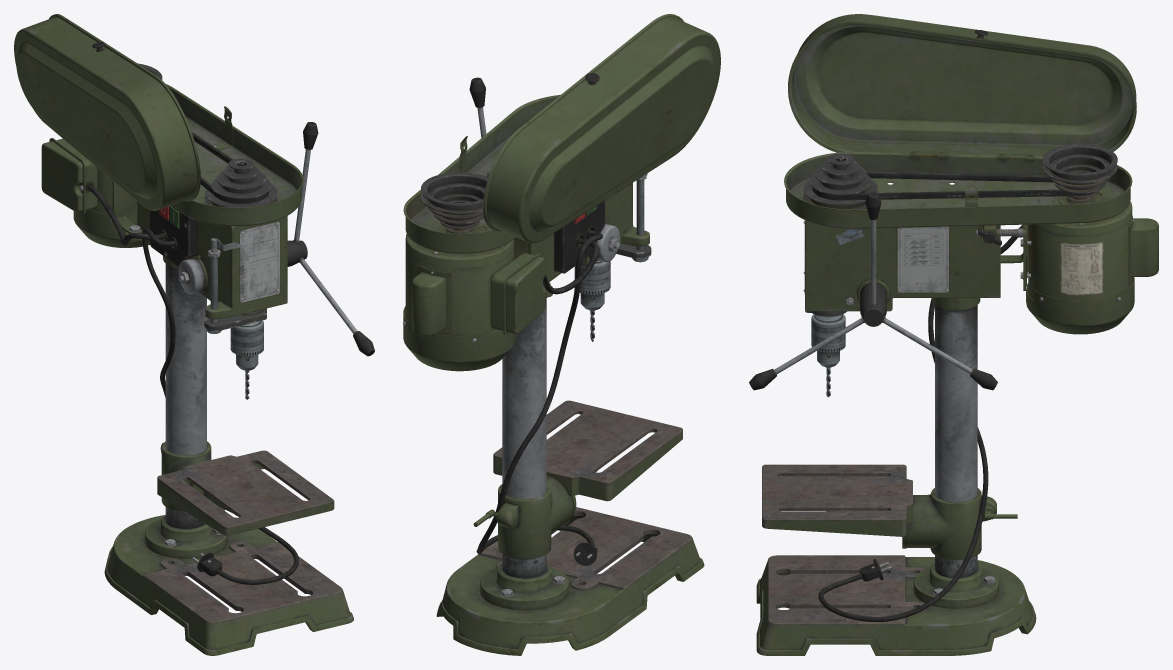
File: drill-press.glb
3 views of the same model, side by side, from view 1: azimuth 30°, elevation 25°; view 2: azimuth 150°, elevation 25°; view 3: azimuth 270°, elevation 25° (orthographic). The views are drawn at different scales.
Parts seen in each view (by area): view 1: drill_press_01, drill_press_01_lid, drill_press_01_plate, drill_press_01_gear_b, drill_press_01_plug, drill_press_01_handle, drill_press_01_limiter, drill_press_01_bit, drill_press_01_belt; view 2: drill_press_01, drill_press_01_lid, drill_press_01_plate, drill_press_01_gear_a, drill_press_01_plug, drill_press_01_bit, drill_press_01_limiter, drill_press_01_handle; view 3: drill_press_01, drill_press_01_lid, drill_press_01_plate, drill_press_01_handle, drill_press_01_gear_a, drill_press_01_belt, drill_press_01_plug, drill_press_01_gear_b, drill_press_01_bit.
Boxes of the visible parts, x1,y1,x2,y2 form: drill_press_01: (41, 84, 353, 655); drill_press_01_lid: (14, 14, 200, 210); drill_press_01_plate: (157, 441, 334, 535); drill_press_01_gear_b: (205, 158, 277, 207); drill_press_01_plug: (142, 229, 298, 584); drill_press_01_handle: (287, 122, 374, 356); drill_press_01_limiter: (204, 238, 266, 333); drill_press_01_bit: (230, 320, 263, 399); drill_press_01_belt: (191, 132, 268, 203); drill_press_01: (403, 94, 704, 655); drill_press_01_lid: (483, 14, 720, 243); drill_press_01_plate: (493, 400, 682, 559); drill_press_01_gear_a: (421, 172, 488, 233); drill_press_01_plug: (476, 230, 602, 565); drill_press_01_bit: (574, 260, 610, 341); drill_press_01_limiter: (616, 173, 651, 262); drill_press_01_handle: (469, 77, 489, 174); drill_press_01: (756, 152, 1158, 655); drill_press_01_lid: (788, 14, 1136, 160); drill_press_01_plate: (762, 464, 996, 559); drill_press_01_handle: (749, 192, 997, 390); drill_press_01_gear_a: (1043, 143, 1117, 203); drill_press_01_belt: (812, 171, 1095, 200); drill_press_01_plug: (818, 298, 988, 621); drill_press_01_gear_b: (803, 153, 877, 209); drill_press_01_bit: (811, 314, 845, 397).
Bounding box in the file's own units: 0.3543 × 0.9011 × 0.5988.
Materials: 1 (1 with a texture image).
